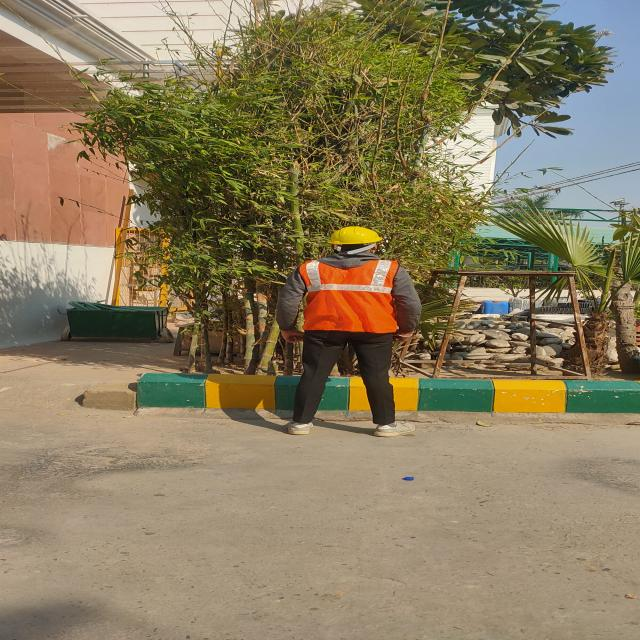safe: (284, 228, 417, 437)
